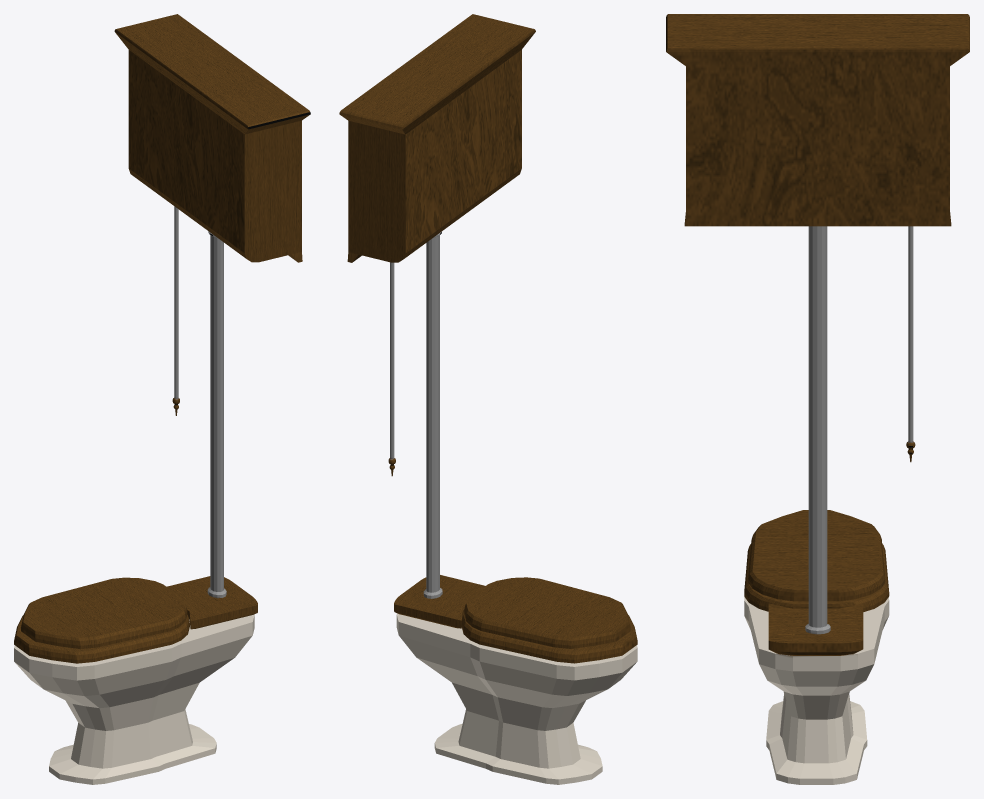
Rendered from Toilet.glb.
3 renders of one model, left to right at view 1: azimuth 30°, elevation 25°; view 2: azimuth 150°, elevation 25°; view 3: azimuth 270°, elevation 25°, orthographic. The views are drawn at different scales.
Visible parts, largest first — view 1: Toilet; view 2: Toilet; view 3: Toilet.
Boxes of the visible parts, x1,y1,x2,y2 form: Toilet: (14, 14, 310, 784); Toilet: (339, 14, 637, 784); Toilet: (666, 14, 969, 784).
Bounding box in the file's own units: 19.79 × 56.55 × 20.57.
1 material, 1 textured.
